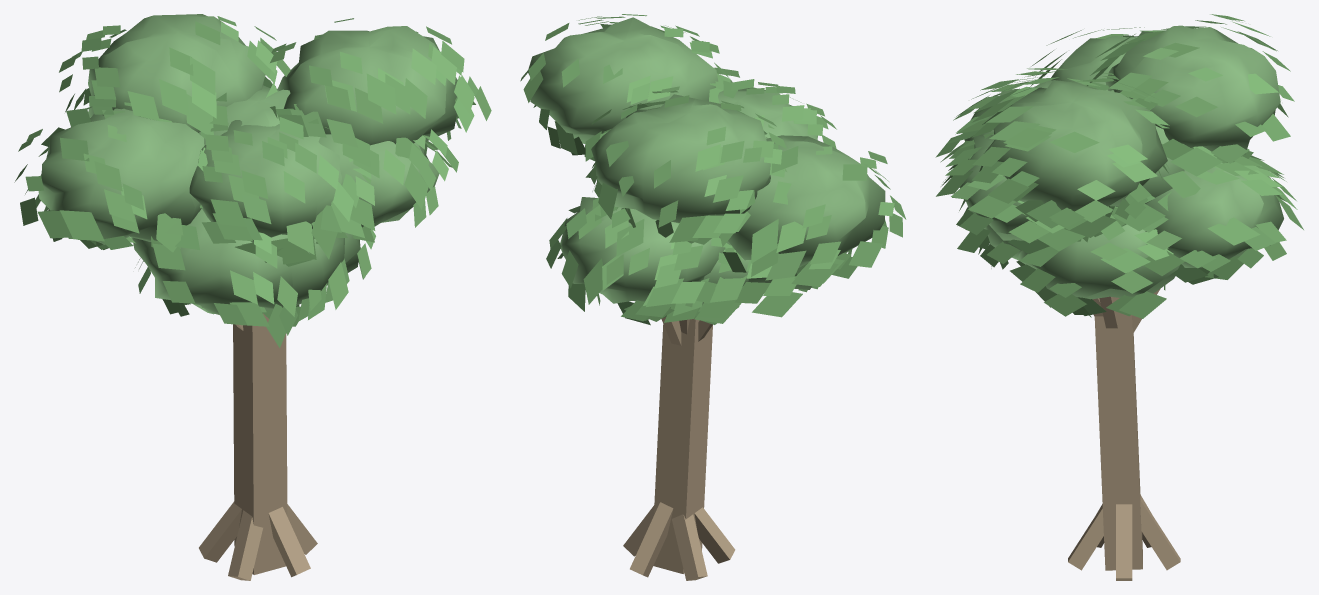
Rendered from linden_young.glb.
The picture shows the model from 3 angles, left to right: view 1: azimuth 30°, elevation 25°; view 2: azimuth 150°, elevation 25°; view 3: azimuth 270°, elevation 25°; orthographic projection. The views are drawn at different scales.
Visible parts, largest first — view 1: SourceMesh_00024, SourceMesh_00019, SourceMesh_00023, SourceMesh_00000, SourceMesh_00022, SourceMesh_00016, SourceMesh_00021, SourceMesh_00018, SourceMesh_00020, SourceMesh_00003, SourceMesh_00002, SourceMesh_00004; view 2: SourceMesh_00024, SourceMesh_00022, SourceMesh_00023, SourceMesh_00000, SourceMesh_00019, SourceMesh_00017, SourceMesh_00021, SourceMesh_00005, SourceMesh_00004, SourceMesh_00003, SourceMesh_00001, SourceMesh_00015; view 3: SourceMesh_00024, SourceMesh_00023, SourceMesh_00022, SourceMesh_00000, SourceMesh_00017, SourceMesh_00015, SourceMesh_00019, SourceMesh_00018, SourceMesh_00001, SourceMesh_00005, SourceMesh_00002, SourceMesh_00020.
Boxes of the visible parts, left/top/right/bottom form: SourceMesh_00024: left=14, top=16, right=491, bottom=347; SourceMesh_00019: left=38, top=108, right=204, bottom=244; SourceMesh_00023: left=277, top=26, right=457, bottom=145; SourceMesh_00000: left=233, top=313, right=287, bottom=574; SourceMesh_00022: left=88, top=14, right=265, bottom=132; SourceMesh_00016: left=132, top=209, right=344, bottom=314; SourceMesh_00021: left=189, top=120, right=341, bottom=242; SourceMesh_00018: left=318, top=134, right=439, bottom=229; SourceMesh_00020: left=198, top=85, right=290, bottom=145; SourceMesh_00003: left=228, top=510, right=262, bottom=580; SourceMesh_00002: left=268, top=507, right=310, bottom=577; SourceMesh_00004: left=199, top=501, right=241, bottom=562; SourceMesh_00024: left=520, top=14, right=906, bottom=325; SourceMesh_00022: left=591, top=94, right=770, bottom=222; SourceMesh_00023: left=527, top=17, right=718, bottom=143; SourceMesh_00000: left=653, top=318, right=712, bottom=573; SourceMesh_00019: left=719, top=135, right=885, bottom=267; SourceMesh_00017: left=560, top=197, right=725, bottom=303; SourceMesh_00021: left=718, top=88, right=817, bottom=139; SourceMesh_00005: left=630, top=502, right=673, bottom=577; SourceMesh_00004: left=672, top=514, right=707, bottom=580; SourceMesh_00003: left=694, top=507, right=735, bottom=563; SourceMesh_00001: left=623, top=505, right=654, bottom=556; SourceMesh_00015: left=699, top=250, right=749, bottom=307; SourceMesh_00024: left=935, top=14, right=1303, bottom=318; SourceMesh_00023: left=984, top=80, right=1167, bottom=211; SourceMesh_00022: left=1105, top=25, right=1280, bottom=154; SourceMesh_00000: left=1094, top=297, right=1142, bottom=570; SourceMesh_00017: left=1145, top=163, right=1283, bottom=267; SourceMesh_00015: left=1018, top=224, right=1179, bottom=299; SourceMesh_00019: left=1051, top=36, right=1138, bottom=90; SourceMesh_00018: left=959, top=134, right=1038, bottom=240; SourceMesh_00001: left=1116, top=504, right=1132, bottom=580; SourceMesh_00005: left=1140, top=496, right=1180, bottom=570; SourceMesh_00002: left=1068, top=505, right=1103, bottom=570; SourceMesh_00020: left=1110, top=90, right=1184, bottom=207.
Bounding box in the file's own units: 2.56 × 3.13 × 2.06.
